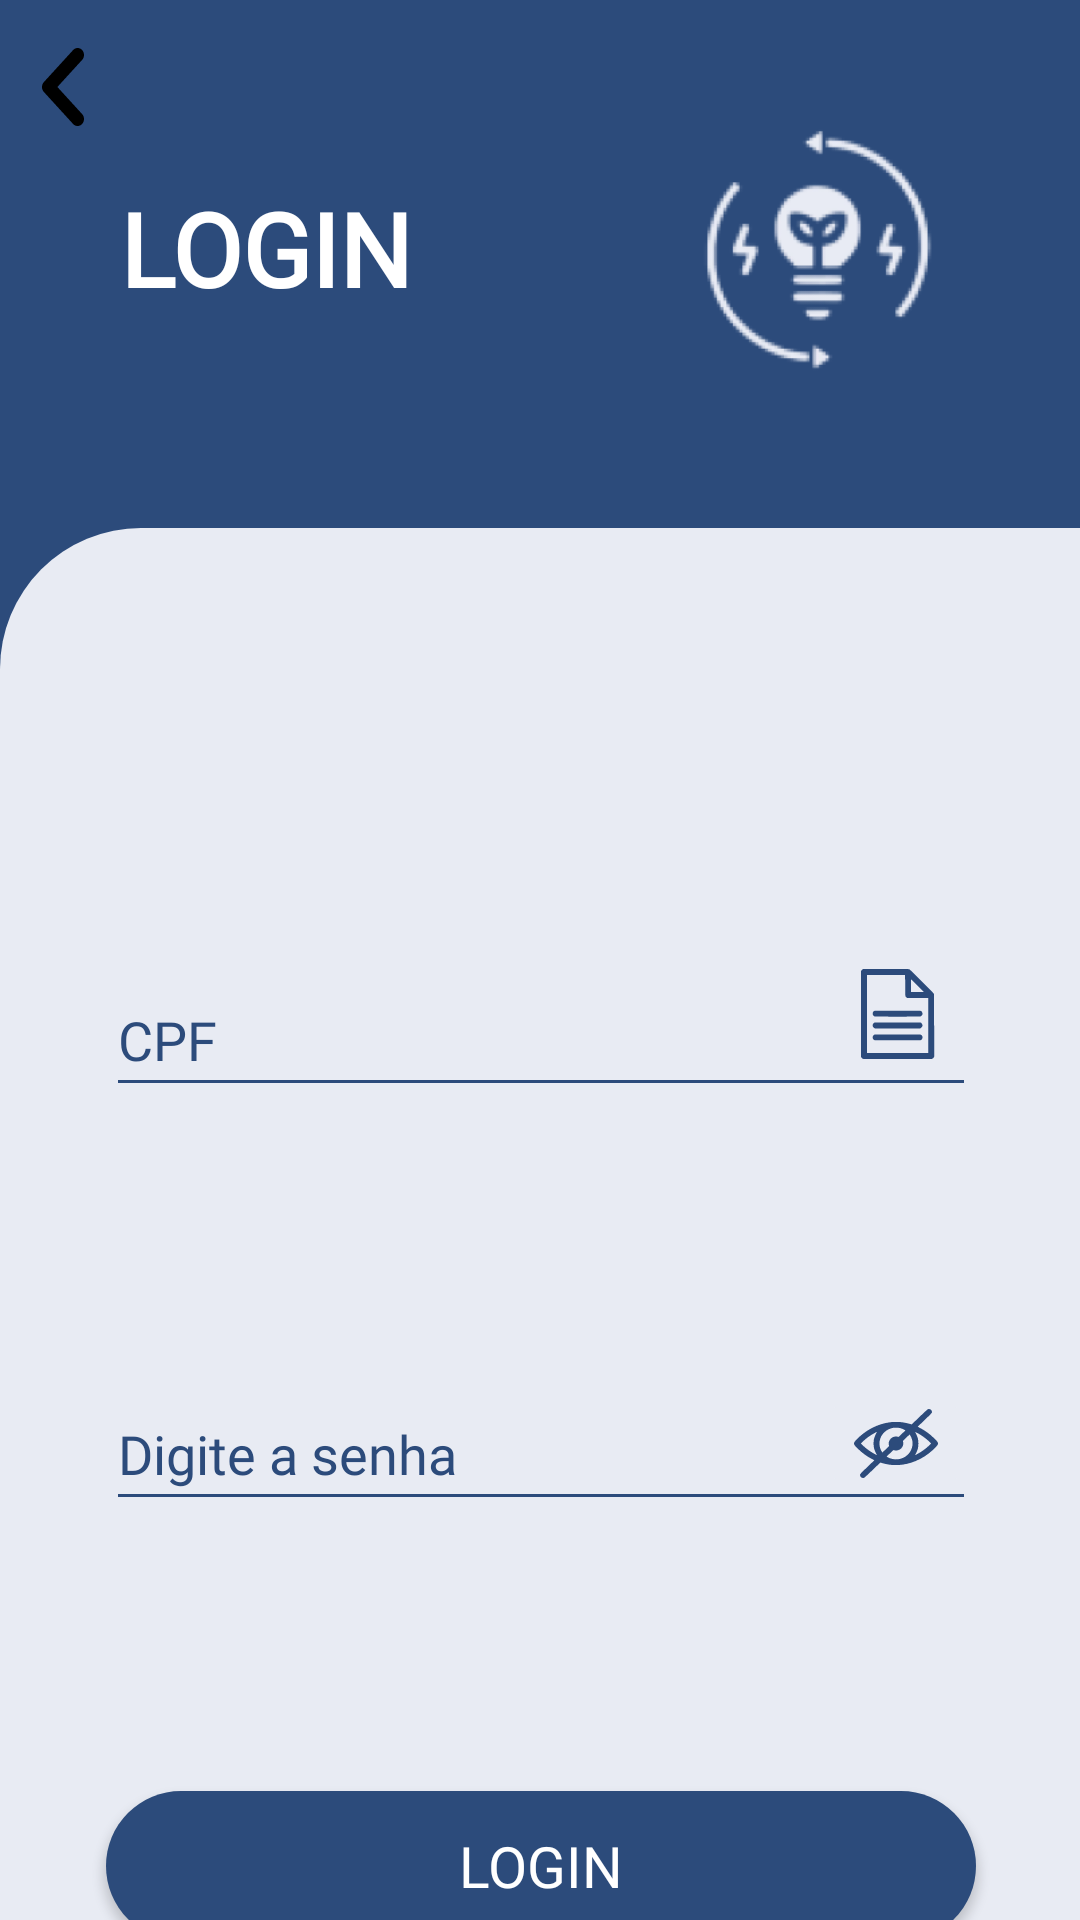

Icons on this 1080*1920 Android screen, each with the point to tap as (x,y):
cpf branco: (898,1014)
seta: (63,87)
